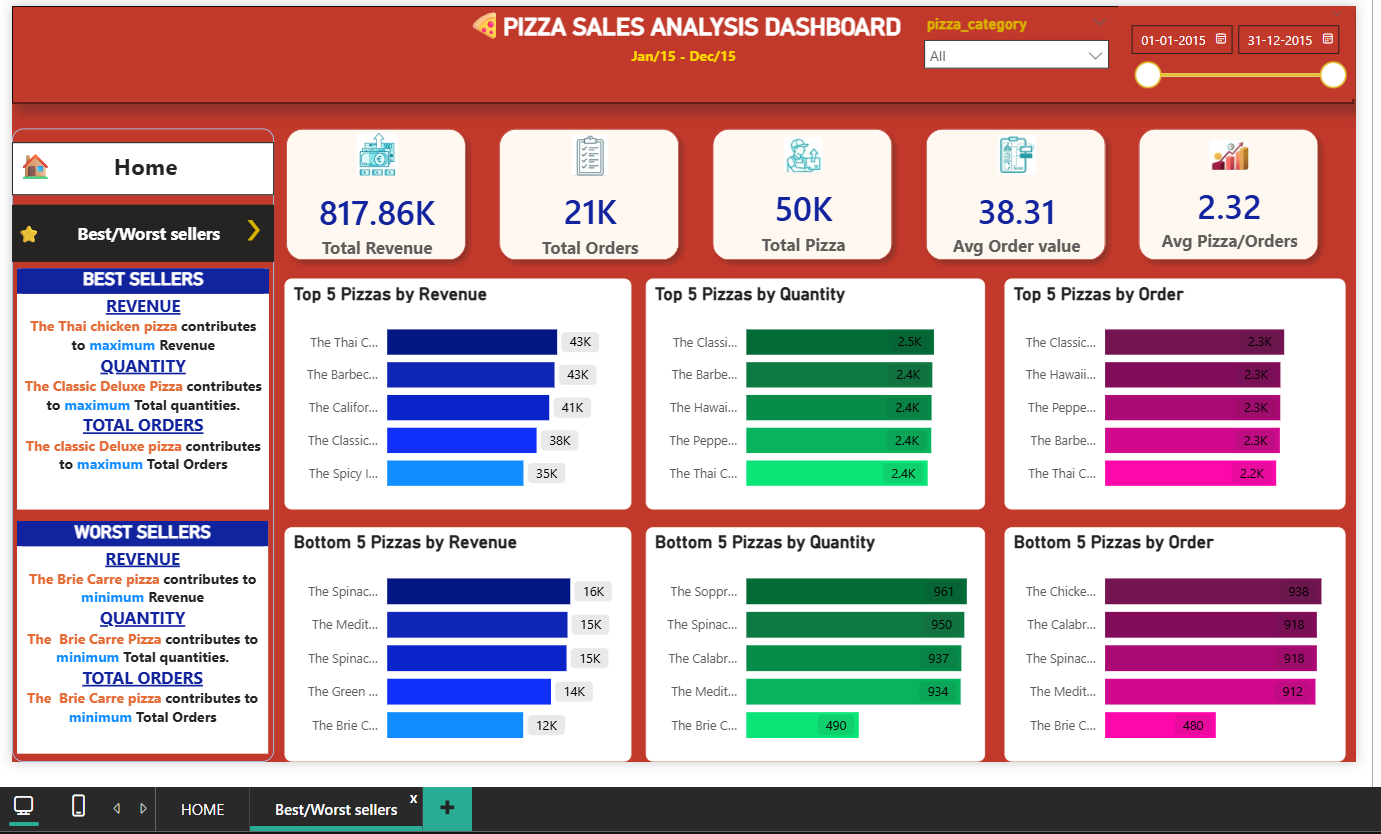

This screenshot's page, from the dashboard's own definition file:
{"tool":"powerbi","page":{"name":"Best/Worst sellers","canvas":[1280,720],"ordinal":1},"visuals":[{"type":"cardVisual","fields":{"Data":["pizza_sales.Total Revenue","pizza_sales.Total Orders","pizza_sales.Total Pizza","pizza_sales.Avg Order value","pizza_sales.Avg Pizza/Orders"]},"box":[231.8,88.2,1045.9,183.5],"z":0},{"type":"barChart","title":"Top 5 Pizzas by Revenue","fields":{"Category":["pizza_sales.pizza_name"],"Y":["pizza_sales.Total Revenue"]},"box":[260,260,330.6,220],"z":1000},{"type":"barChart","title":"Top 5 Pizzas by Quantity","fields":{"Category":["pizza_sales.pizza_name"],"Y":["Sum(pizza_sales.quantity)"]},"box":[603.5,260,323.5,220],"z":2000},{"type":"barChart","title":"Top 5 Pizzas by Order","fields":{"Category":["pizza_sales.pizza_name"],"Y":["pizza_sales.Total Orders"]},"box":[944.7,260,324.7,220],"z":3000},{"type":"barChart","title":"Bottom 5 Pizzas by Revenue","fields":{"Category":["pizza_sales.pizza_name"],"Y":["pizza_sales.Total Revenue"]},"box":[260.5,496.5,330.2,215.1],"z":4000},{"type":"barChart","title":"Bottom 5 Pizzas by Quantity","fields":{"Category":["pizza_sales.pizza_name"],"Y":["Sum(pizza_sales.quantity)"]},"box":[603.5,496.5,323.3,215.1],"z":5000},{"type":"barChart","title":"Bottom 5 Pizzas by Order","fields":{"Category":["pizza_sales.pizza_name"],"Y":["pizza_sales.Total Orders"]},"box":[944.2,496.5,325.6,215.1],"z":6000},{"type":"textbox","box":[0,116.5,249.4,603.5],"z":7000},{"type":"textbox","box":[0,129.4,249.4,50.6],"z":8000},{"type":"textbox","box":[0,189,249.5,54],"z":9000},{"type":"textbox","title":"BEST SELLERS","box":[4.2,250,240.4,229.5],"z":10000},{"type":"textbox","title":"WORST SELLERS","box":[4.8,490.5,239.3,221.4],"z":11000},{"type":"textbox","title":"🍕PIZZA SALES ANALYSIS DASHBOARD","box":[0,0,1277.9,93],"z":12000},{"type":"slicer","title":"Pizza Category","fields":{"Values":["pizza_sales.pizza_category"]},"box":[858.4,3.9,196.1,61],"z":13000},{"type":"slicer","fields":{"Values":["pizza_sales.order_date"]},"box":[1054,0,226,88.3],"z":14000}]}

Visuals, with their boxes on the page's 1280x720 design canvas (x1, y1, x2, y2). These are canvas units, not pixel positions in the 1381x834 screenshot, which may show the page scaled, cropped or inside an application window:
cardVisual - pizza_sales.Total Revenue x pizza_sales.Total Orders: [left=232, top=88, right=1278, bottom=272]
"Top 5 Pizzas by Revenue" barChart: [left=260, top=260, right=591, bottom=480]
"Top 5 Pizzas by Quantity" barChart: [left=604, top=260, right=927, bottom=480]
"Top 5 Pizzas by Order" barChart: [left=945, top=260, right=1269, bottom=480]
"Bottom 5 Pizzas by Revenue" barChart: [left=260, top=496, right=591, bottom=712]
"Bottom 5 Pizzas by Quantity" barChart: [left=604, top=496, right=927, bottom=712]
"Bottom 5 Pizzas by Order" barChart: [left=944, top=496, right=1270, bottom=712]
textbox: [left=0, top=116, right=249, bottom=720]
textbox: [left=0, top=129, right=249, bottom=180]
textbox: [left=0, top=189, right=250, bottom=243]
"BEST SELLERS" textbox: [left=4, top=250, right=245, bottom=480]
"WORST SELLERS" textbox: [left=5, top=490, right=244, bottom=712]
"🍕PIZZA SALES ANALYSIS DASHBOARD" textbox: [left=0, top=0, right=1278, bottom=93]
"Pizza Category" slicer: [left=858, top=4, right=1054, bottom=65]
slicer - pizza_sales.order_date: [left=1054, top=0, right=1280, bottom=88]
